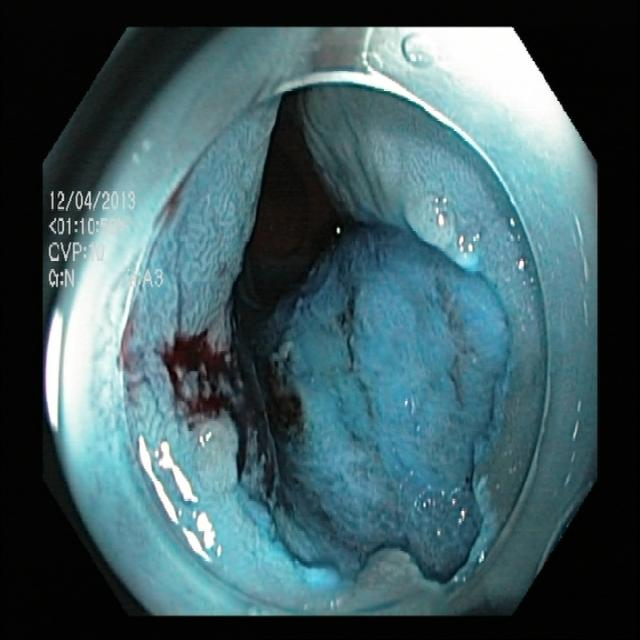dyed-resection-margins: (153, 315, 252, 438)
